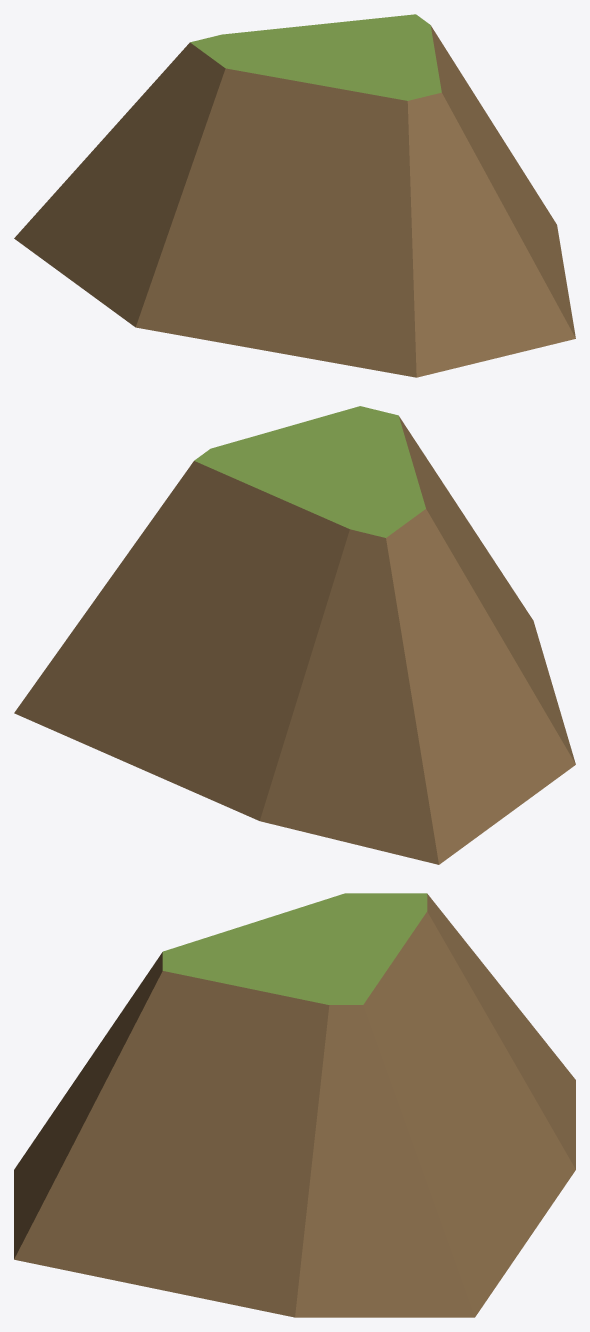
The model's file is rock_smallB.glb.
3 views of the same model, one above another, from view 1: azimuth 30°, elevation 25°; view 2: azimuth 150°, elevation 25°; view 3: azimuth 270°, elevation 25° (orthographic). The views are drawn at different scales.
Visible parts, largest first — view 1: rock_smallB; view 2: rock_smallB; view 3: rock_smallB.
Part boxes in pixels (x1,y1,x2,y2): rock_smallB: (14,14,575,377); rock_smallB: (14,406,575,864); rock_smallB: (14,893,575,1317).
Bounding box in the file's own units: 0.3608 × 0.1768 × 0.3608.
